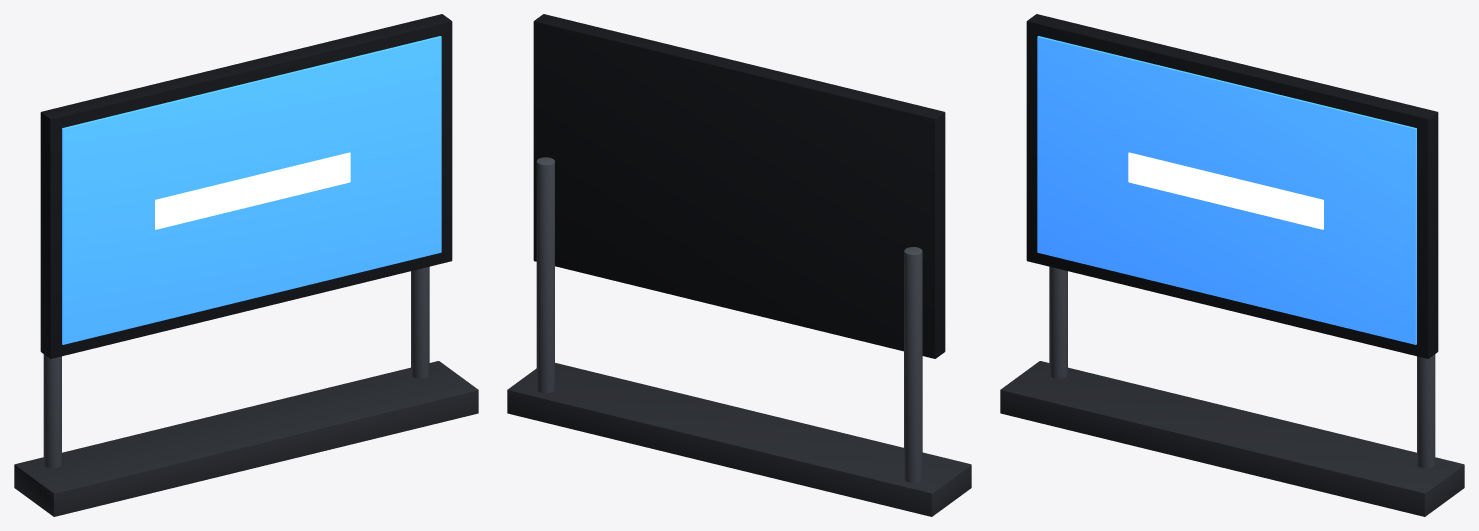
Rendered from telao_led.glb.
The picture shows the model from 3 angles, left to right: view 1: azimuth 30°, elevation 25°; view 2: azimuth 150°, elevation 25°; view 3: azimuth 330°, elevation 25°; orthographic projection.
Parts seen in each view (by area): view 1: telao_led; view 2: telao_led; view 3: telao_led.
Boxes of the visible parts, x1,y1,x2,y2 form: telao_led: (14, 14, 478, 516); telao_led: (507, 14, 971, 516); telao_led: (1000, 14, 1464, 516).
Size of the model in its own units: 7.4 by 6.4 by 1.2.
